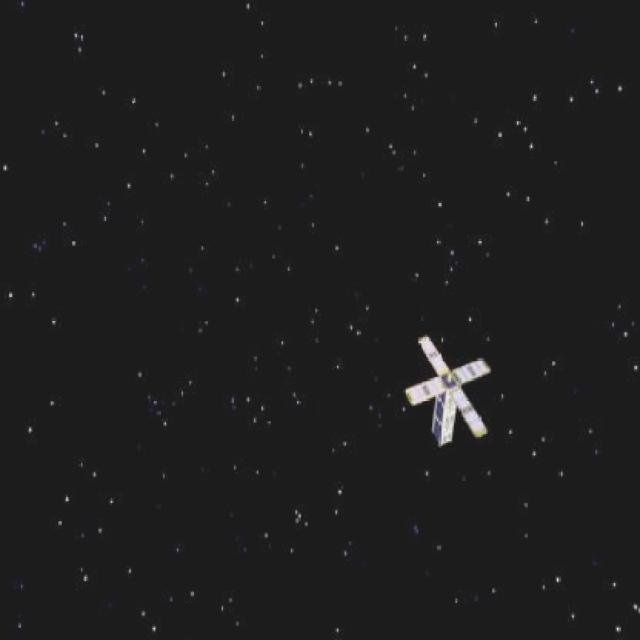medium_debris: (400, 336, 498, 452)
